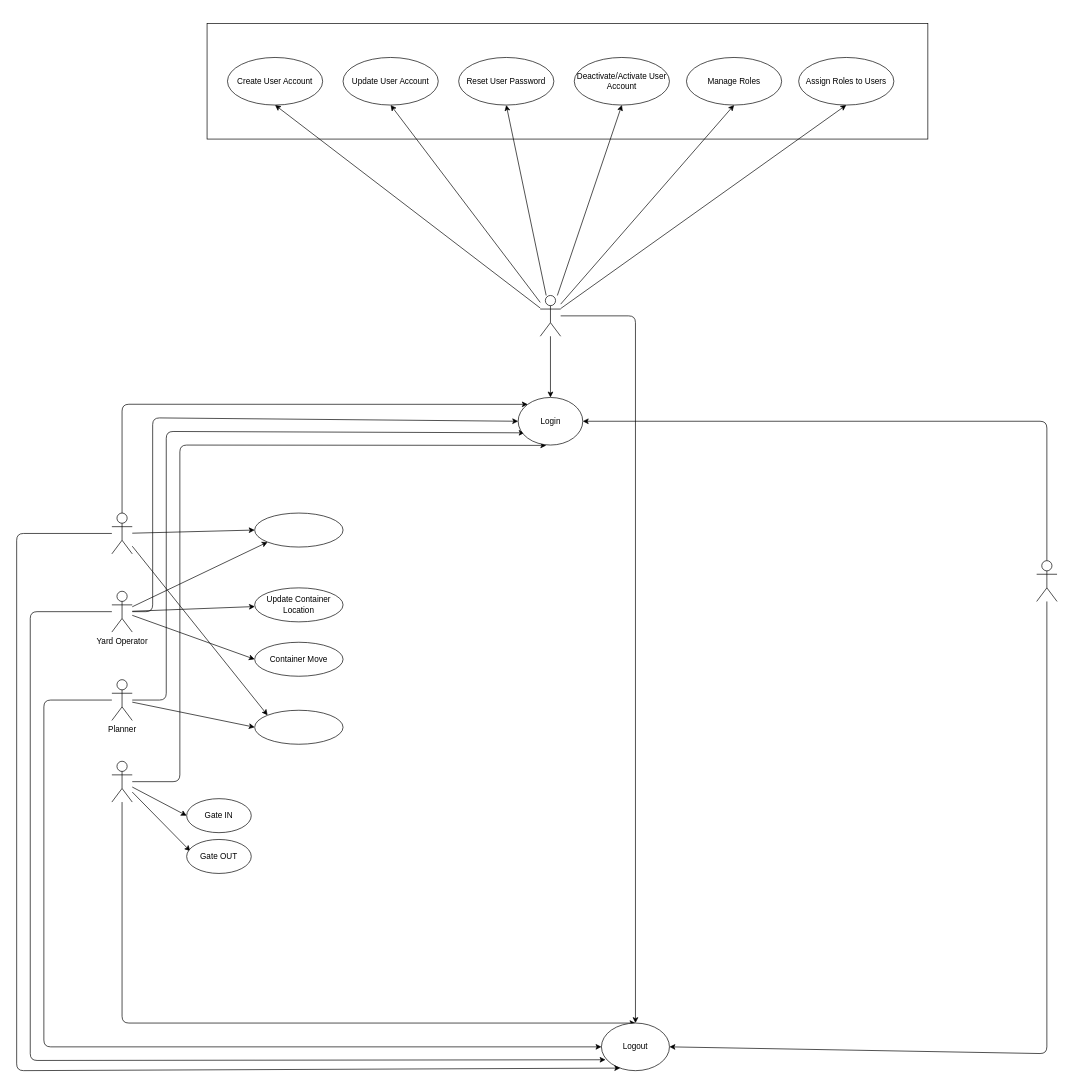
This 1081x1088 diagram has some shape labels left out. Here are the shapes that lost their labels. From the top down, the box of each, then its label:
(206, 23, 928, 139): ACCESS MANAGEMENT
(540, 295, 561, 336): Admin
(111, 512, 132, 554): Terminal Operator
(254, 512, 343, 547): Container Event
(1036, 560, 1057, 601): Customer (Line Agent)
(254, 710, 343, 744): View Containers
(111, 761, 132, 802): Gate Clerk
